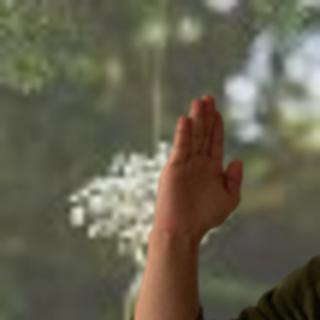RIGHT: (156, 89, 247, 251)
